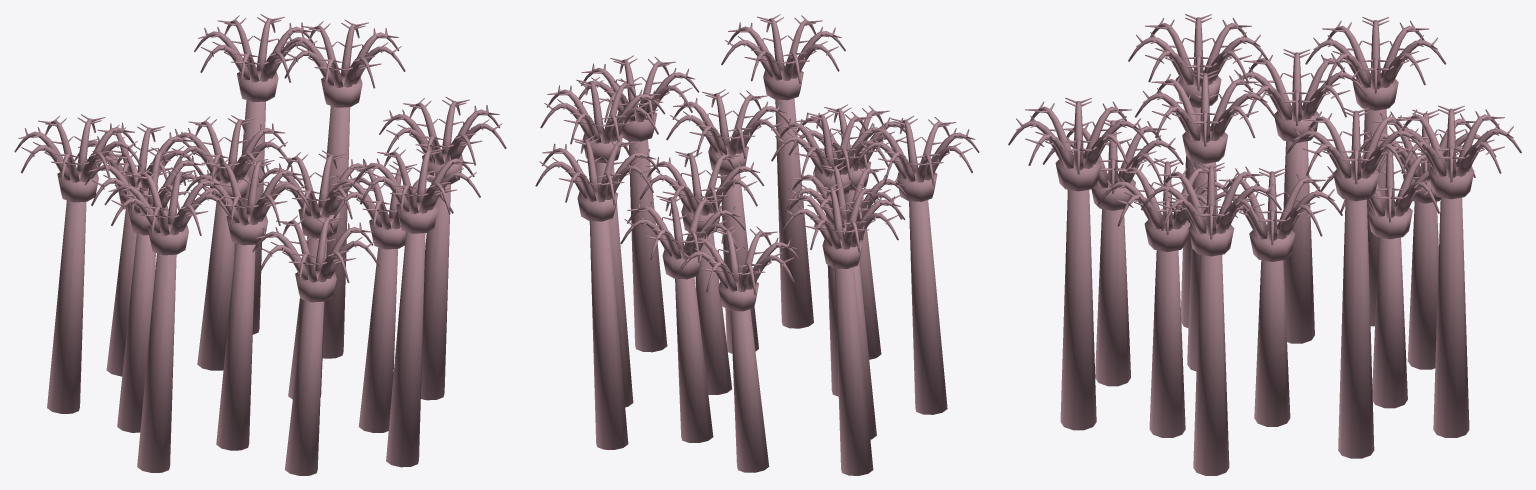
The model's file is xenia-desktop.glb.
The picture shows the model from 3 angles, left to right: view 1: azimuth 30°, elevation 25°; view 2: azimuth 150°, elevation 25°; view 3: azimuth 270°, elevation 25°; orthographic projection. The views are drawn at different scales.
Parts seen in each view (by area): view 1: xenia-stalk, octocoral-tentacle, pinnule, polyp-column; view 2: xenia-stalk, octocoral-tentacle, pinnule, polyp-column; view 3: xenia-stalk, octocoral-tentacle, polyp-column, pinnule.
Part boxes in pixels (<box>): xenia-stalk: <box>47,76,450,475</box>; octocoral-tentacle: <box>14,18,506,285</box>; pinnule: <box>18,14,502,265</box>; polyp-column: <box>57,67,463,302</box>; xenia-stalk: <box>589,75,947,475</box>; octocoral-tentacle: <box>535,18,979,295</box>; pinnule: <box>539,14,975,274</box>; polyp-column: <box>577,66,937,311</box>; xenia-stalk: <box>1060,75,1469,475</box>; octocoral-tentacle: <box>1008,17,1521,244</box>; polyp-column: <box>1055,73,1474,261</box>; pinnule: <box>1016,14,1513,221</box>.
Size of the model in its own units: 0.5486 by 0.401 by 0.5689.
